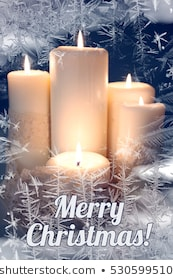Fire: (74, 32, 87, 52), (21, 54, 33, 75), (73, 142, 84, 163), (122, 72, 135, 89), (135, 95, 146, 108)
